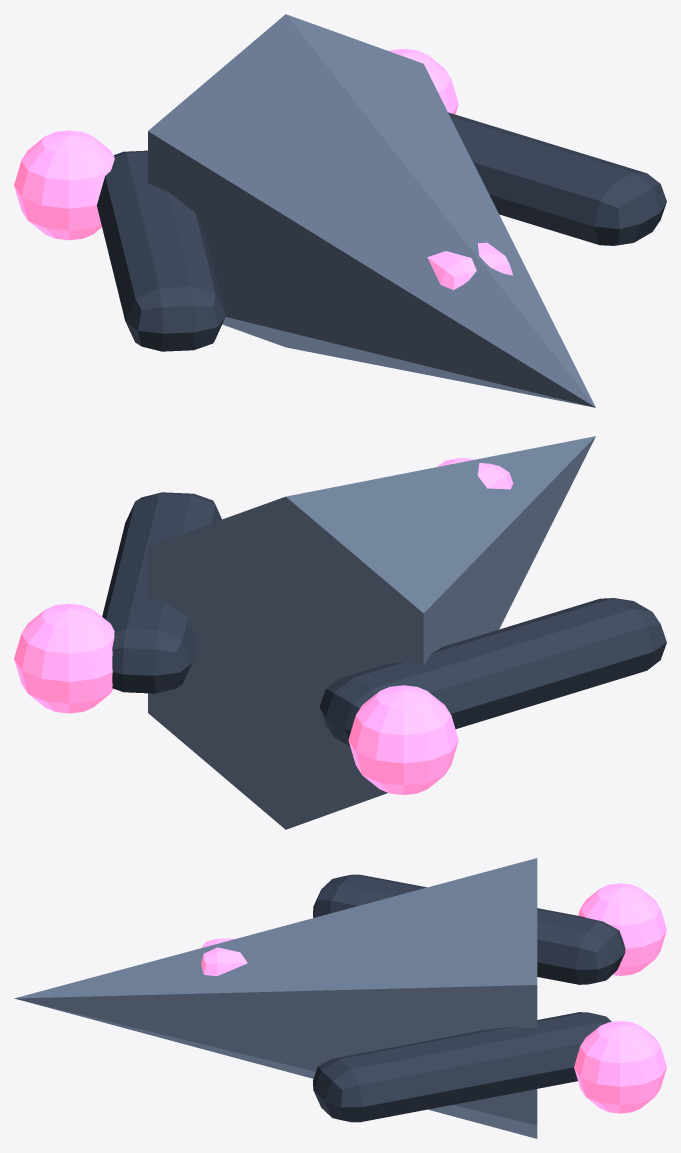
Rendered from raider.glb.
The picture shows the model from 3 angles, top to bottom: view 1: azimuth 30°, elevation 25°; view 2: azimuth 150°, elevation 25°; view 3: azimuth 270°, elevation 25°; orthographic projection. The views are drawn at different scales.
Parts seen in each view (by area): view 1: Cone, Cube, Cube.001, Sphere, Cube.002, Sphere.001; view 2: Cone, Cube, Cube.001, Sphere, Sphere.001, Cube.002; view 3: Cone, Cube.001, Cube, Sphere.001, Sphere, Cube.002.
Boxes of the visible parts, x1,y1,x2,y2 form: Cone: [148, 14, 595, 407]; Cube: [97, 150, 225, 351]; Cube.001: [448, 112, 666, 245]; Sphere: [14, 130, 114, 240]; Cube.002: [427, 242, 512, 289]; Sphere.001: [389, 49, 458, 114]; Cone: [148, 436, 595, 829]; Cube: [319, 598, 666, 746]; Cube.001: [102, 492, 221, 693]; Sphere: [348, 685, 458, 794]; Sphere.001: [14, 603, 114, 713]; Cube.002: [437, 458, 513, 489]; Cone: [14, 858, 537, 1138]; Cube.001: [313, 1012, 611, 1122]; Cube: [313, 874, 625, 984]; Sphere.001: [574, 1021, 666, 1113]; Sphere: [578, 883, 666, 975]; Cube.002: [201, 938, 247, 975].
Size of the model in its own units: 1.33 by 0.8 by 1.68.
